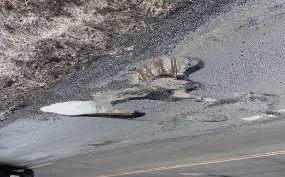pothole: (4, 0, 69, 87), (125, 54, 210, 98), (73, 0, 115, 57), (33, 100, 150, 120), (121, 0, 171, 32), (209, 90, 281, 106), (181, 110, 228, 126), (237, 111, 279, 124)
